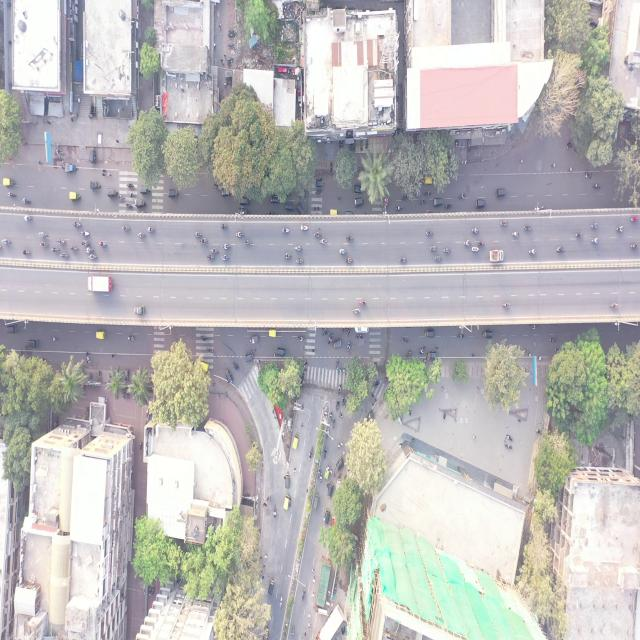3W: (68, 188, 80, 202), (134, 196, 148, 208), (224, 370, 234, 386), (546, 329, 558, 340), (2, 176, 13, 188), (106, 186, 118, 197), (483, 330, 496, 340), (94, 330, 107, 340), (334, 458, 343, 472), (27, 339, 38, 350), (327, 481, 333, 501), (427, 350, 439, 360), (324, 509, 331, 526), (88, 181, 101, 190), (314, 177, 324, 188), (296, 202, 305, 214), (283, 494, 289, 512), (244, 352, 254, 362), (476, 198, 486, 208), (270, 194, 280, 204), (167, 190, 177, 200), (268, 328, 278, 338), (333, 340, 344, 349), (432, 198, 443, 207), (292, 435, 298, 451), (285, 473, 290, 491), (285, 203, 295, 212), (495, 188, 506, 196), (276, 348, 285, 356), (355, 198, 364, 206), (239, 197, 249, 204), (126, 181, 134, 189), (89, 254, 98, 261), (282, 227, 290, 234), (330, 209, 337, 216)
Cars: (134, 305, 146, 315)
LCV: (490, 251, 503, 261), (65, 162, 77, 172), (312, 495, 319, 512), (296, 256, 303, 264)
M2W: (221, 252, 231, 262), (511, 230, 522, 239), (272, 504, 278, 520), (278, 596, 284, 611), (23, 214, 32, 224), (121, 224, 131, 233), (137, 231, 147, 240), (195, 228, 204, 238), (472, 244, 481, 254), (501, 302, 510, 312), (609, 302, 618, 312), (79, 230, 90, 238), (629, 242, 640, 250), (2, 236, 11, 245), (51, 244, 60, 253), (80, 239, 89, 248), (200, 236, 209, 245), (57, 235, 66, 244), (302, 542, 307, 558), (22, 248, 32, 256), (72, 220, 82, 228), (147, 226, 155, 236), (358, 300, 368, 308), (590, 222, 600, 230), (6, 192, 16, 200), (59, 252, 69, 260), (290, 627, 296, 639), (233, 361, 239, 373), (99, 240, 108, 248), (339, 247, 347, 256), (500, 218, 508, 227), (471, 227, 479, 236), (530, 247, 538, 256), (556, 245, 565, 253), (417, 347, 426, 355), (127, 334, 135, 343), (205, 206, 214, 214), (592, 181, 600, 190), (38, 230, 48, 237), (294, 245, 304, 252), (319, 239, 329, 246), (353, 306, 360, 316), (340, 396, 346, 407), (335, 358, 341, 369), (319, 472, 324, 485), (332, 416, 336, 432), (86, 247, 94, 255), (284, 252, 292, 260), (314, 230, 322, 238), (435, 254, 443, 262), (401, 336, 409, 344), (528, 322, 536, 330), (616, 226, 624, 234), (223, 243, 232, 250), (220, 224, 229, 231), (245, 237, 252, 246), (301, 224, 308, 233), (425, 229, 434, 236), (462, 239, 471, 246), (458, 191, 465, 200), (199, 335, 208, 342), (309, 448, 314, 460), (301, 588, 305, 602), (374, 379, 381, 387), (70, 245, 78, 252), (210, 247, 218, 254), (236, 230, 243, 238), (346, 234, 353, 242), (399, 256, 406, 264), (444, 246, 451, 254), (524, 224, 531, 232), (576, 231, 584, 238), (592, 238, 600, 245), (425, 190, 432, 198), (22, 198, 31, 204), (50, 336, 59, 342), (335, 398, 339, 411), (337, 384, 342, 394), (418, 199, 425, 206), (346, 341, 350, 353), (322, 330, 328, 338), (328, 334, 332, 346), (299, 334, 305, 342), (40, 242, 48, 248), (345, 258, 353, 264), (457, 333, 465, 339), (323, 449, 327, 460), (430, 244, 436, 251), (631, 216, 638, 222), (396, 205, 402, 211), (402, 194, 408, 200), (446, 204, 452, 210)
Truck: (88, 276, 112, 294)
